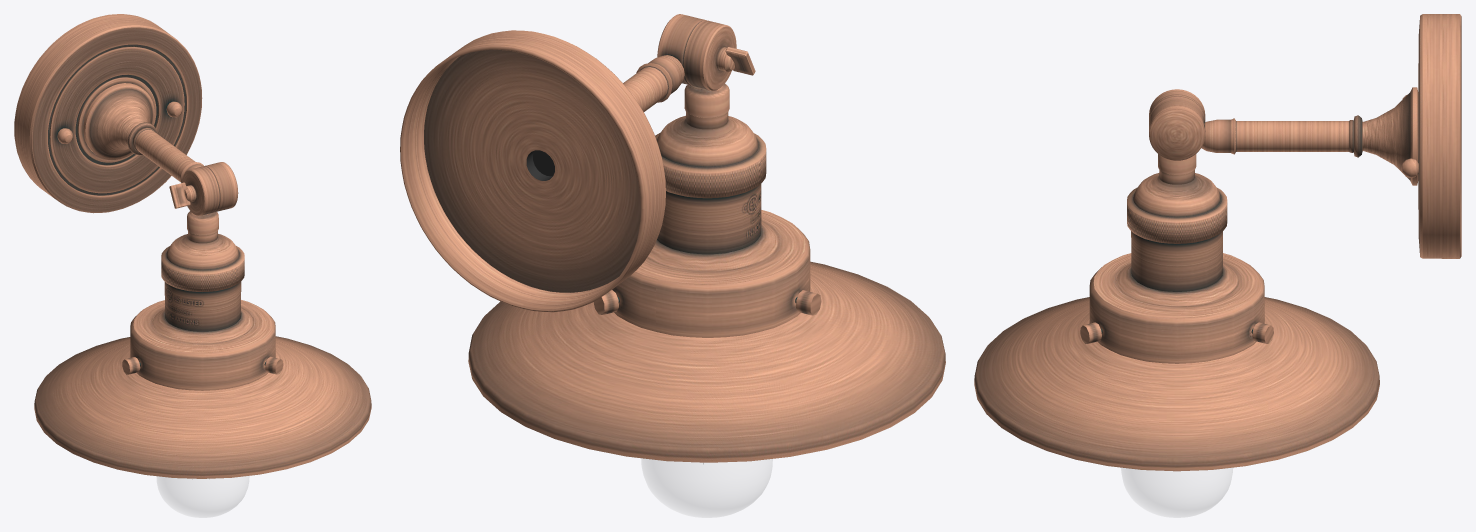
The model's file is AnisotropyBarnLamp.gltf.
3 renders of one model, left to right at view 1: azimuth 30°, elevation 25°; view 2: azimuth 150°, elevation 25°; view 3: azimuth 270°, elevation 25°, orthographic. The views are drawn at different scales.
Parts seen in each view (by area): view 1: Lamp Metal, Lamp Glass; view 2: Lamp Metal, Lamp Glass; view 3: Lamp Metal, Lamp Glass.
Part boxes in pixels (x1=…): Lamp Metal: x1=14, y1=14, x2=371, y2=479; Lamp Glass: x1=157, y1=476, x2=249, y2=517; Lamp Metal: x1=400, y1=14, x2=945, y2=464; Lamp Glass: x1=641, y1=458, x2=772, y2=517; Lamp Metal: x1=974, y1=14, x2=1461, y2=471; Lamp Glass: x1=1121, y1=468, x2=1232, y2=517.
Size of the model in its own units: 0.1908 by 0.2552 by 0.2265.
Materials: 3 (1 with a texture image).
